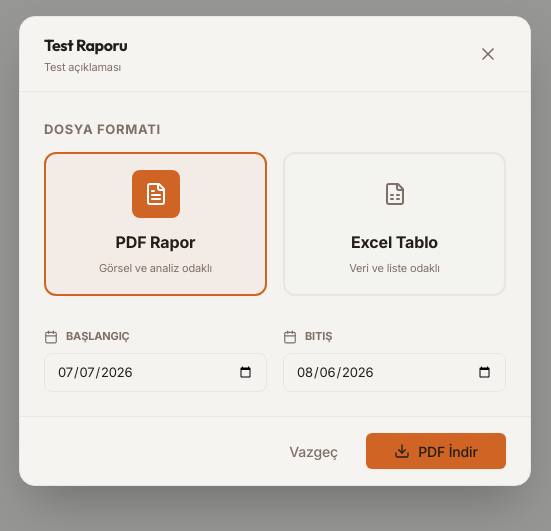
Test case: ExportDialog › switches to Excel and shows Excel download button
The width and height of the screenshot is (551, 531).
Note: Click Excel button to switch format
What coordinates should you click on to do the following:
click the text "Excel Tablo"
I would click on:
 (394, 242)
Its box is [349,230,440,254].
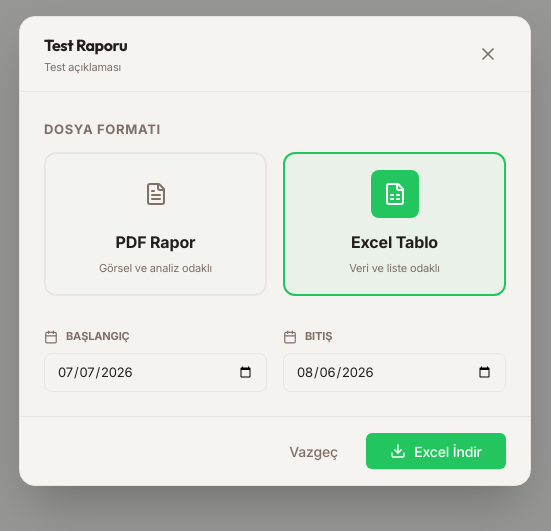
Expected: the text "Excel İndir" is shown, [414,441,482,462]
